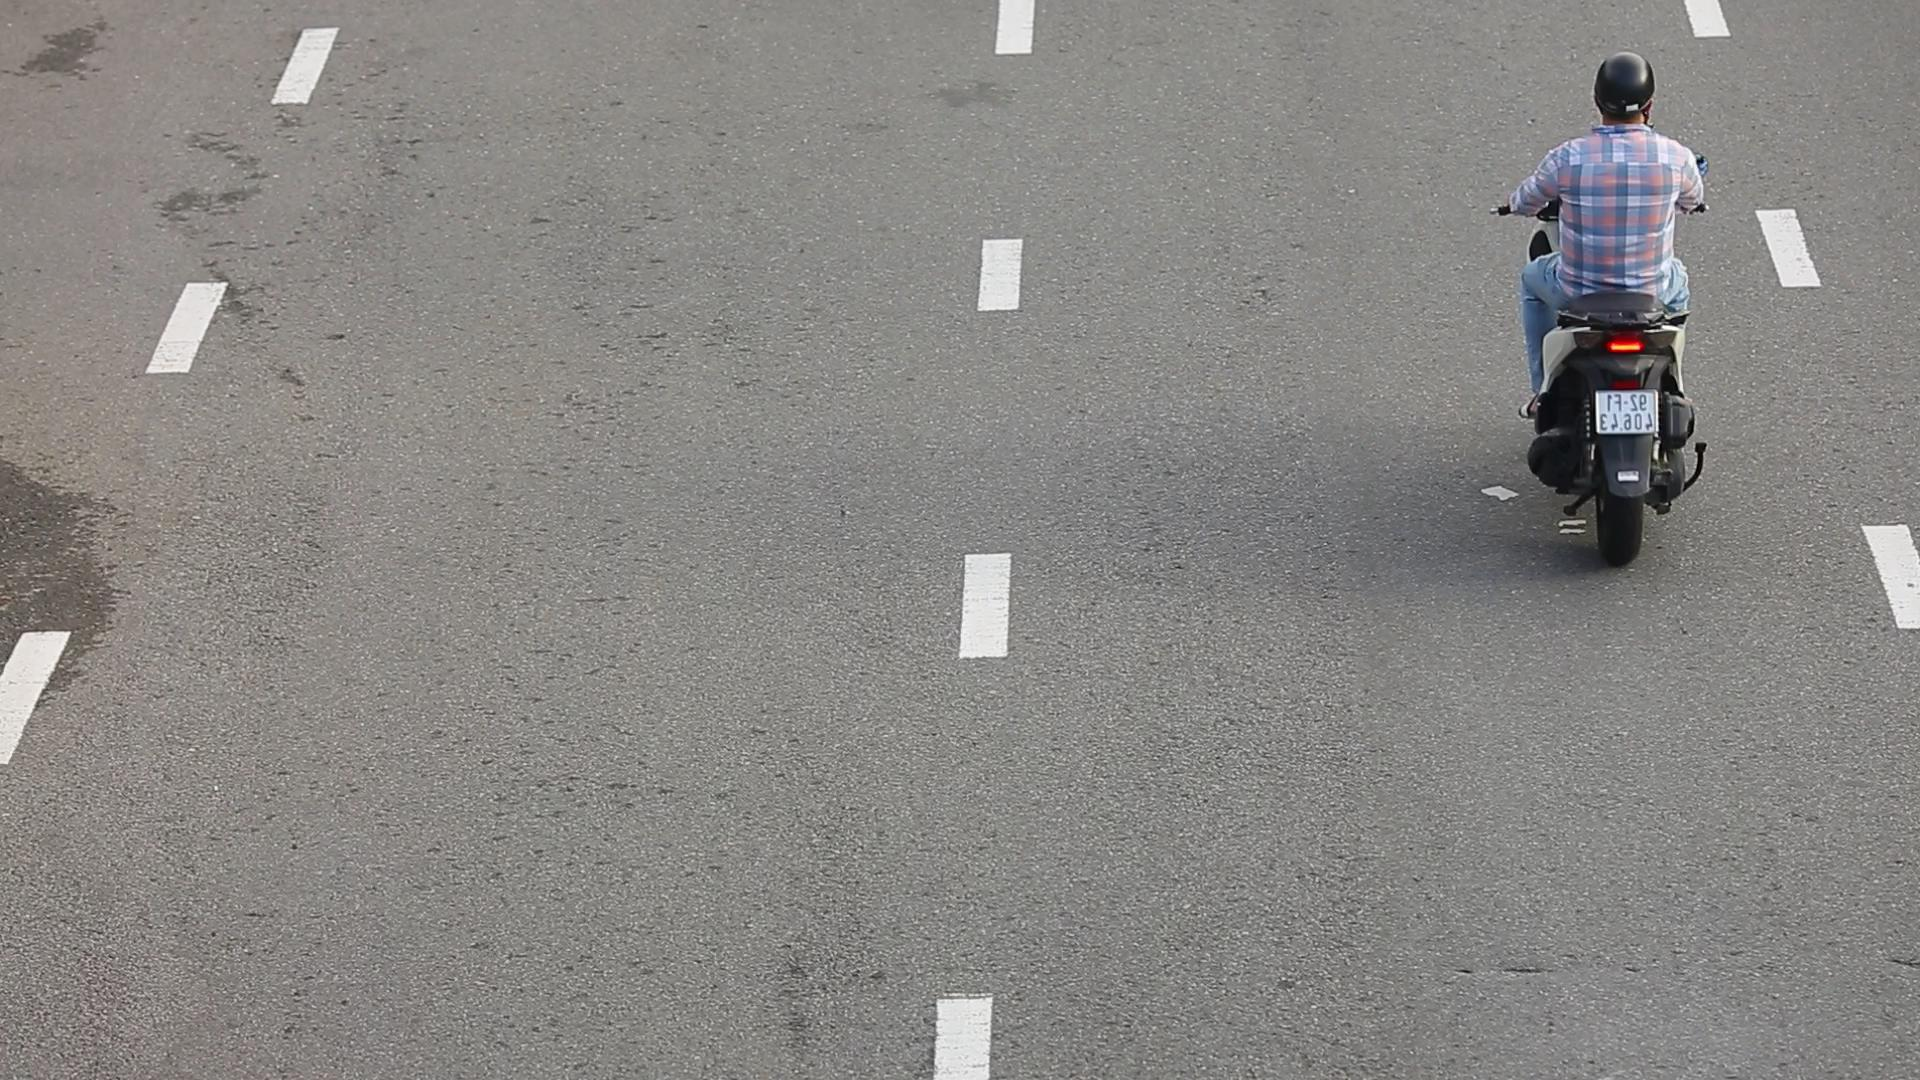motobike: (1499, 45, 1718, 566)
